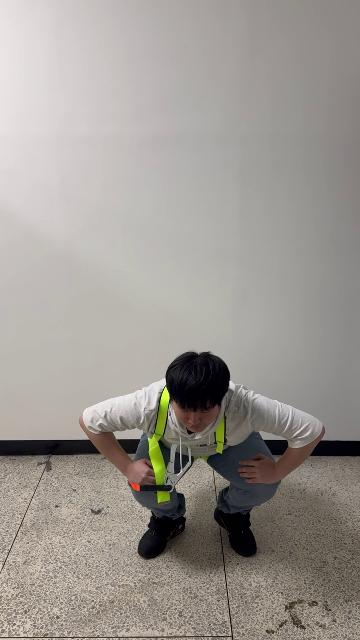helmet_not_worn: (164, 350, 234, 412)
shoe_worn: (137, 513, 186, 559), (214, 506, 256, 557)
vest_worn: (138, 380, 233, 501)
